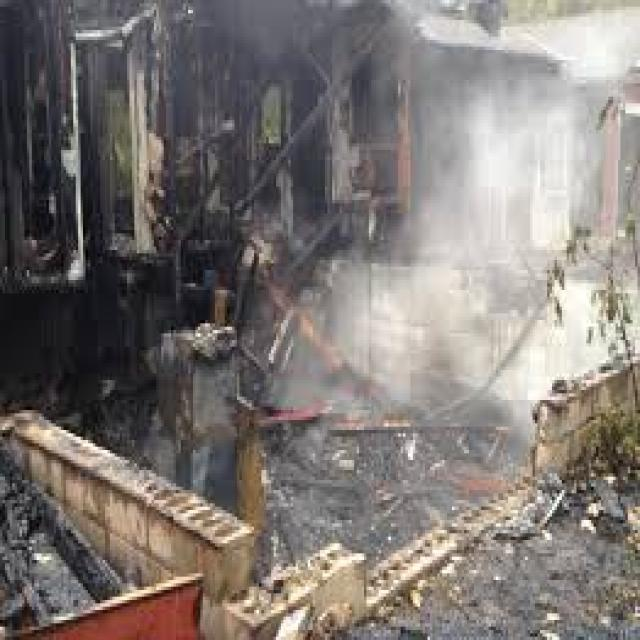Smoke: (208, 0, 640, 459)
